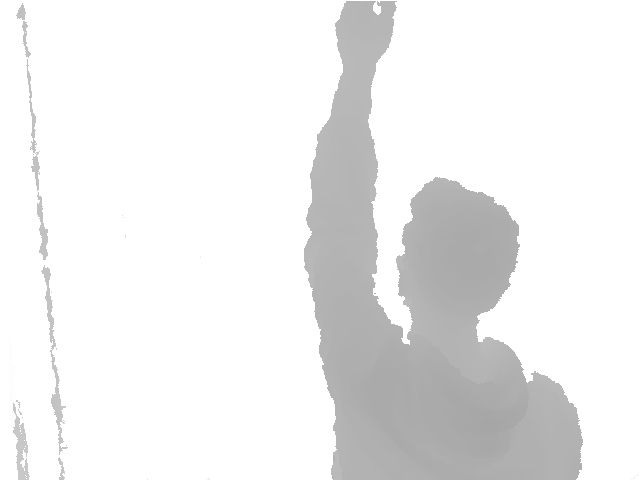hand: (335, 2, 397, 71)
head: (396, 176, 521, 325)
person: (303, 1, 586, 480)
